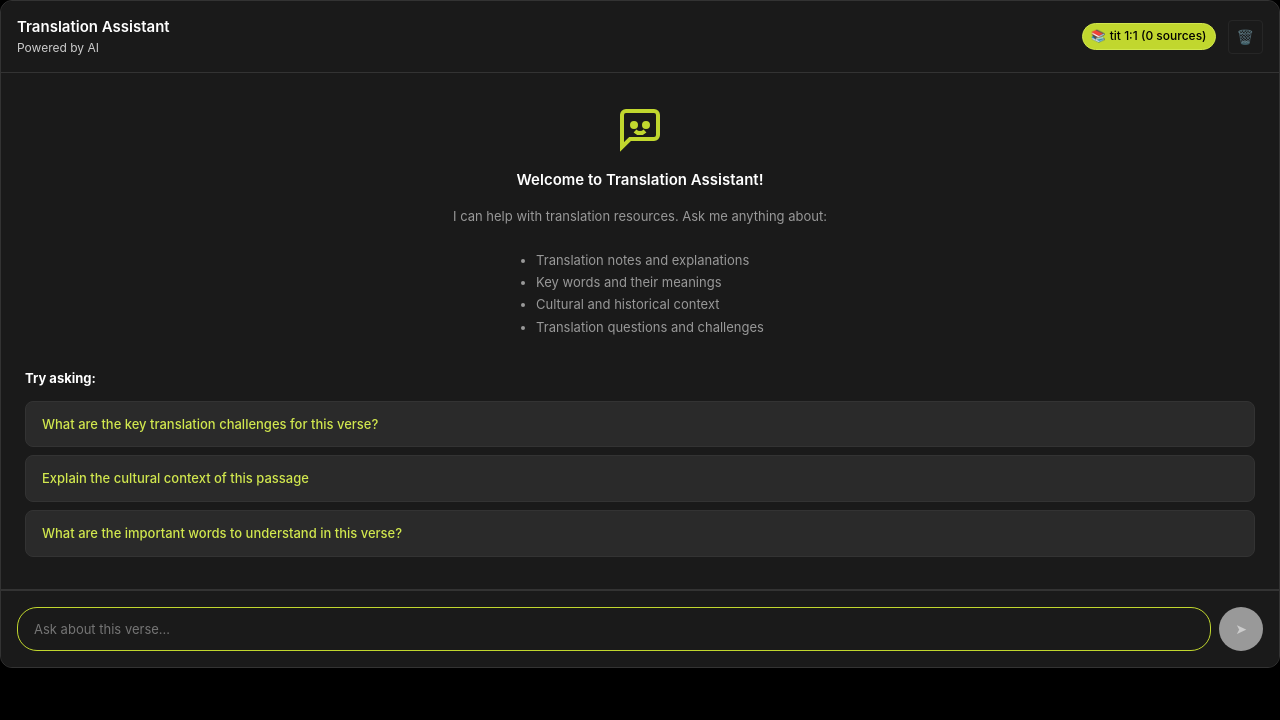
Test: LLMChatPanel › enables send button when input has text
The width and height of the screenshot is (1280, 720).
Type "Test message" into the text box with placeholder "Ask about this verse...". click: coordinates (614, 629)
box: x1=17 y1=607 x2=1211 y2=651
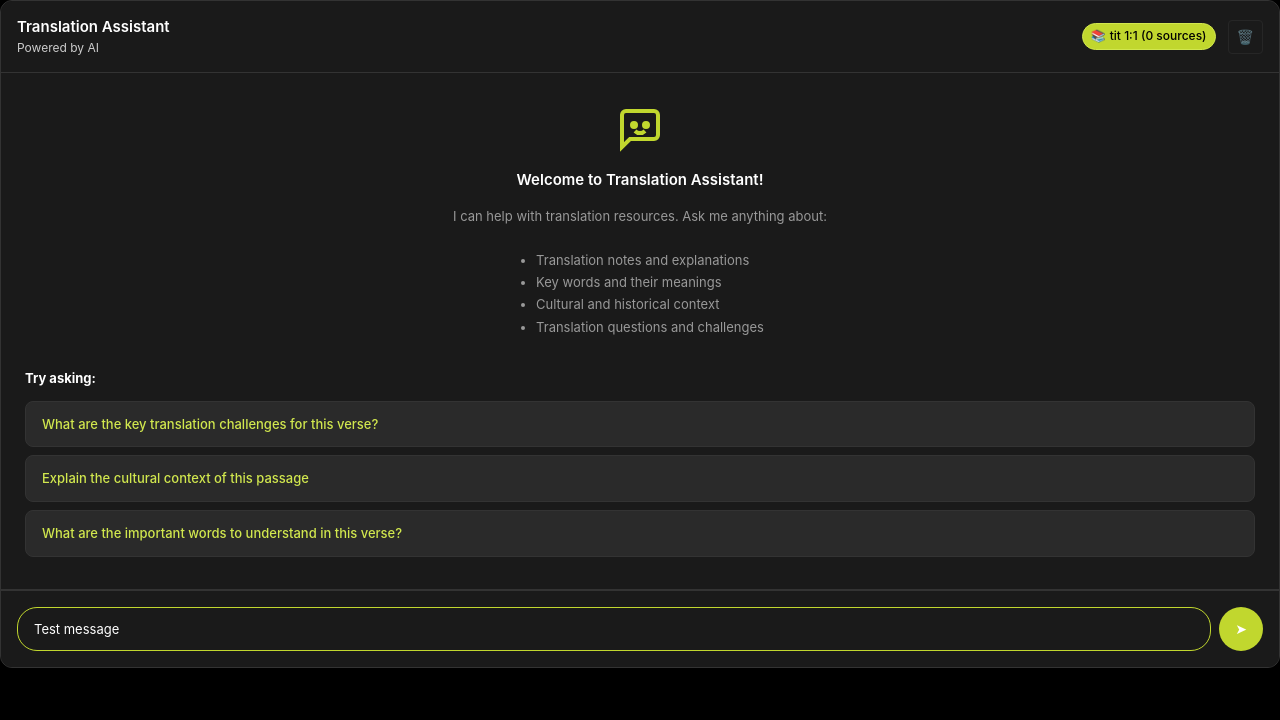
Expected: the button "➤" is enabled, x1=1219 y1=607 x2=1263 y2=651
